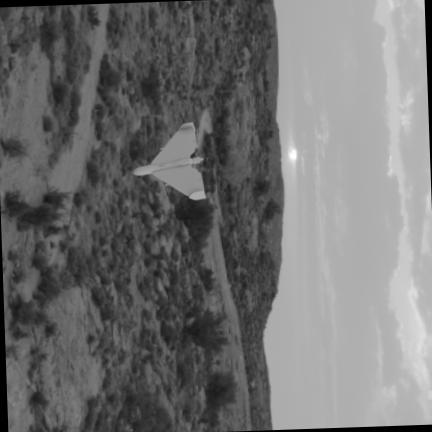Shahed: (133, 123, 205, 200)
